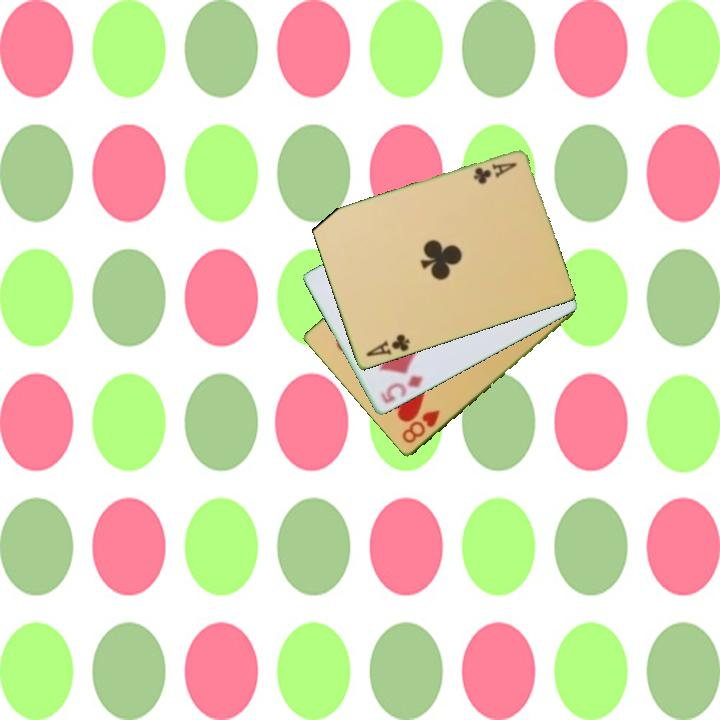5d: (376, 372, 426, 407)
8h: (398, 407, 443, 447)
Ac: (363, 331, 413, 360), (470, 159, 520, 187)
